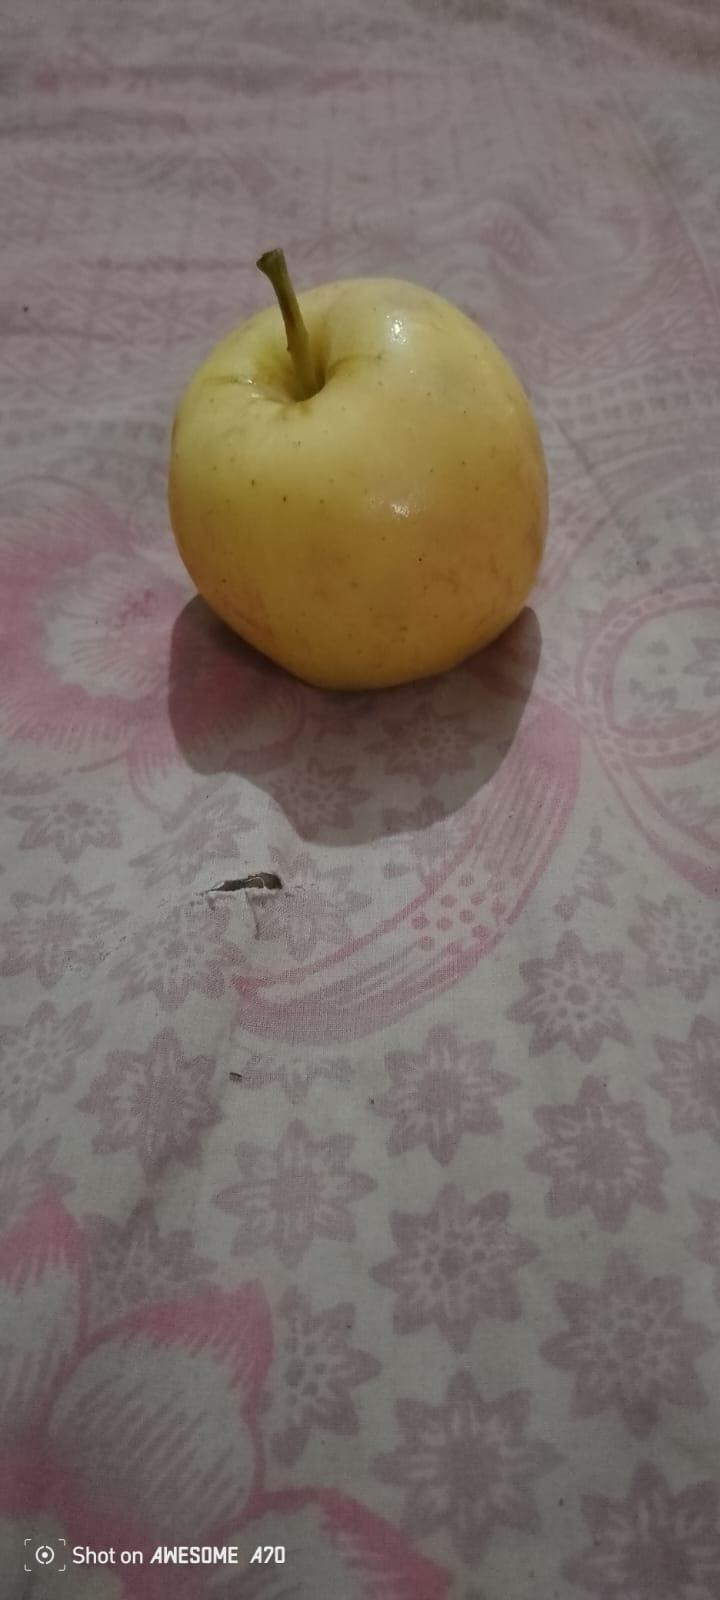non-mango: (179, 227, 557, 704)
